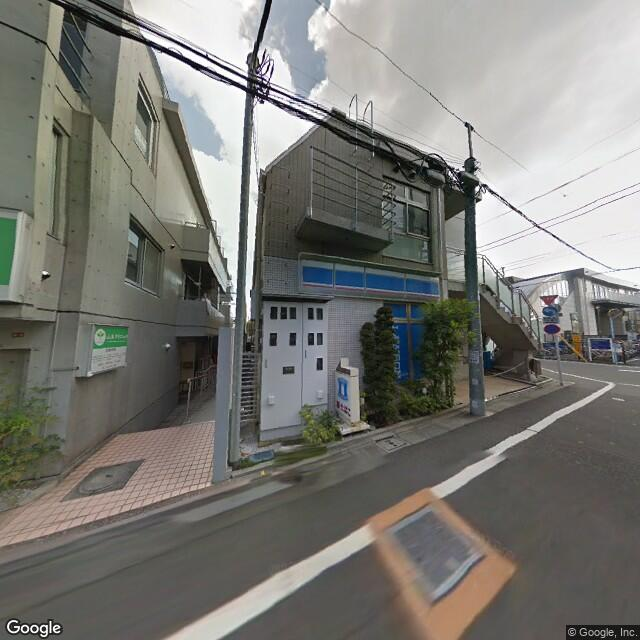lawson: (294, 258, 450, 309), (384, 310, 432, 388), (332, 375, 354, 408)
